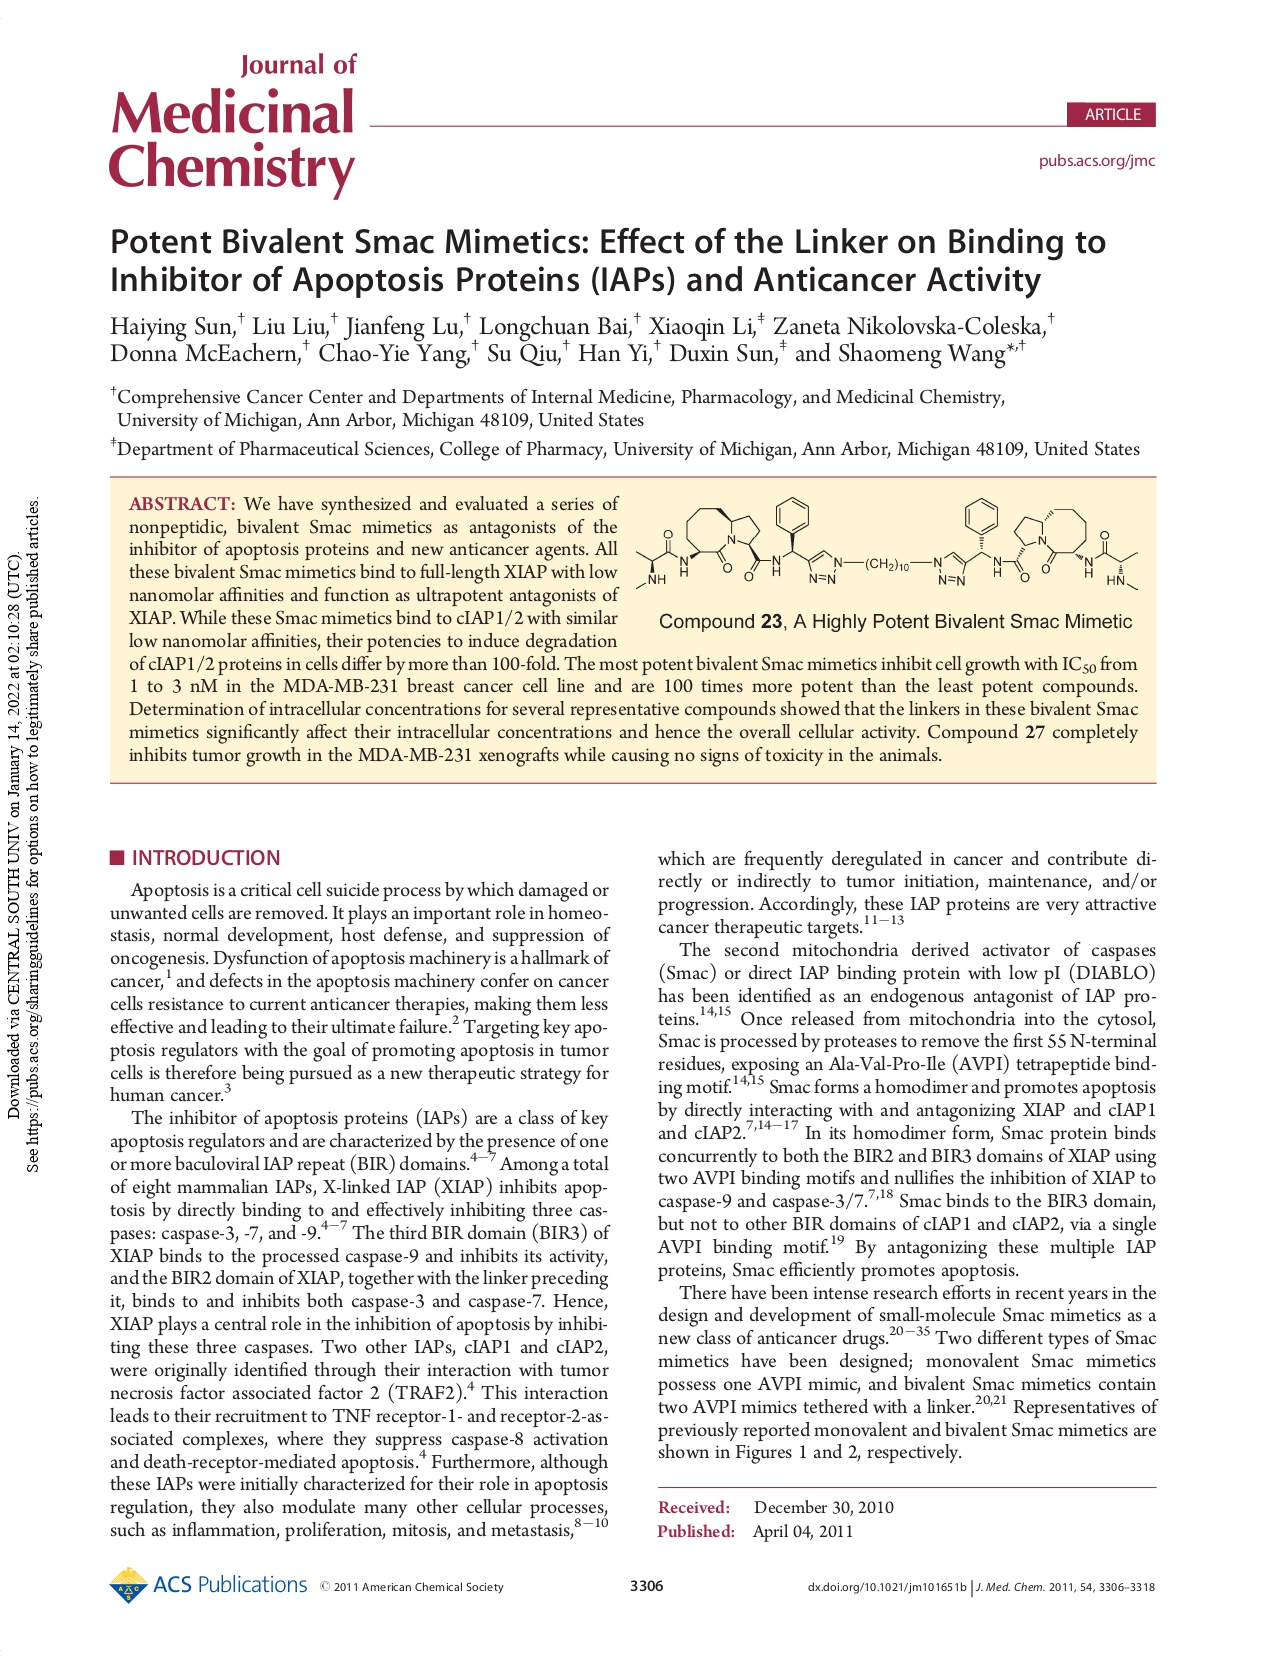exist_molecular: (633, 493, 1141, 596)
